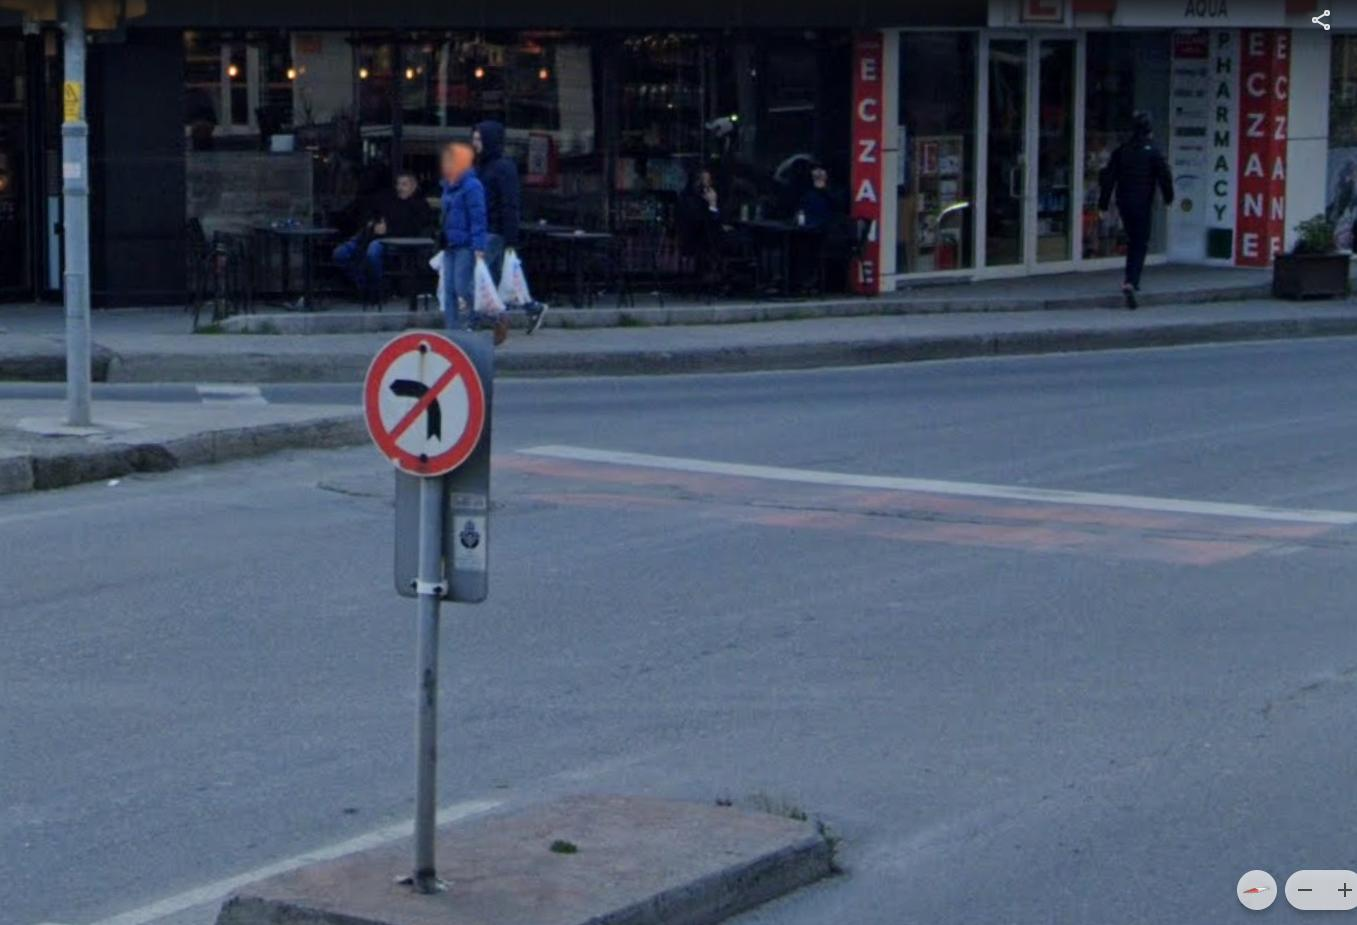leftturnsareforbidden: (364, 333, 485, 471)
